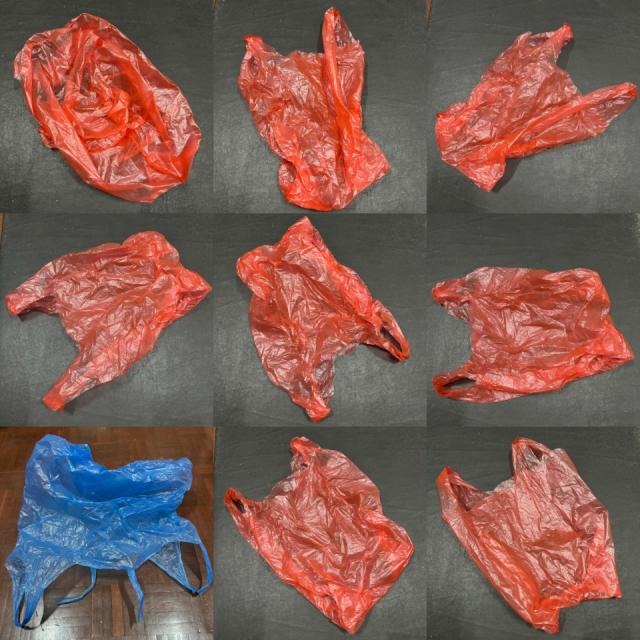Single-layer Plastic: (5, 435, 212, 626), (224, 438, 414, 633), (6, 231, 211, 410), (436, 438, 621, 633), (236, 218, 410, 421), (14, 14, 201, 202), (436, 24, 638, 191), (238, 8, 390, 209), (431, 268, 634, 402)
